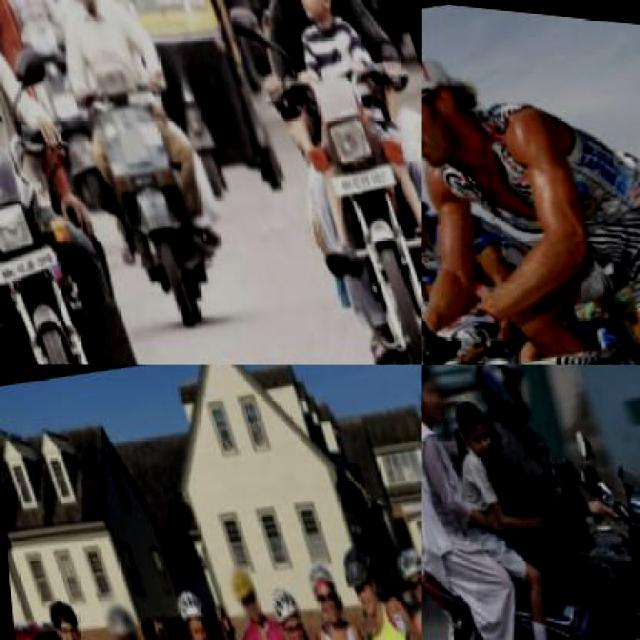With Helmet: (422, 20, 504, 182), (452, 365, 545, 432), (323, 528, 389, 617), (296, 544, 346, 622), (257, 570, 314, 638), (160, 570, 217, 638), (28, 583, 88, 639), (382, 529, 420, 614), (92, 584, 150, 638), (218, 556, 262, 618), (422, 160, 446, 260)
Without Helmet: (443, 389, 492, 449), (422, 364, 443, 418)
